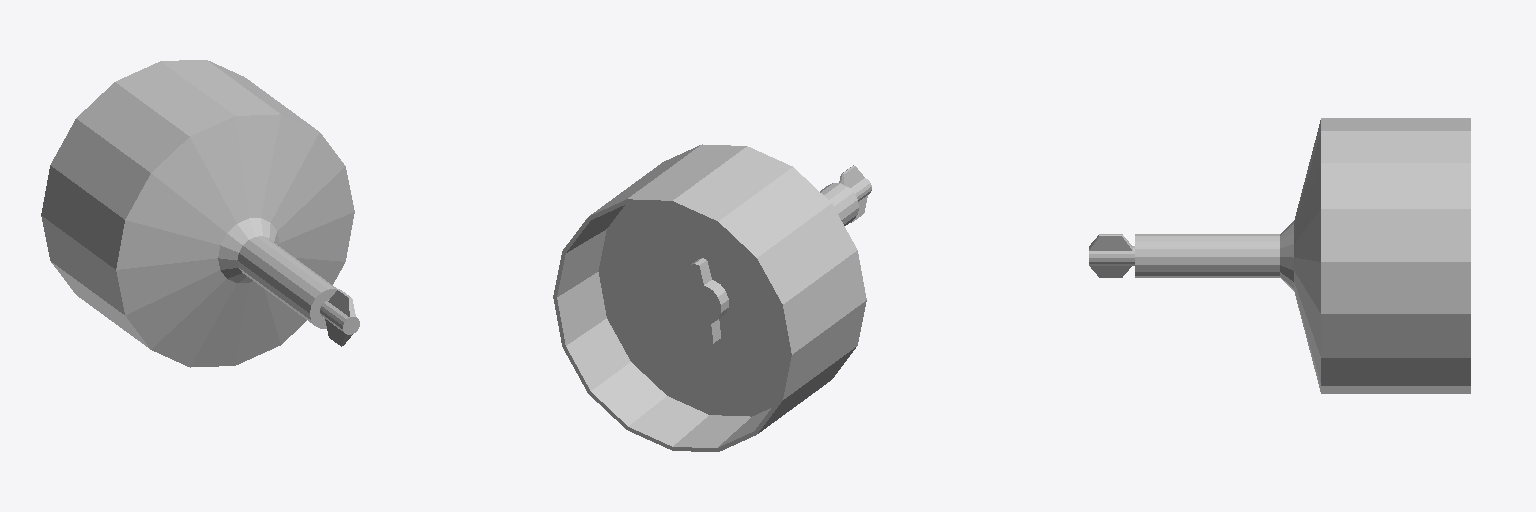
File: drill.obj
3 renders of one model, left to right at view 1: azimuth 30°, elevation 25°; view 2: azimuth 150°, elevation 25°; view 3: azimuth 270°, elevation 25°, orthographic.
Parts seen in each view (by area): view 1: bit_01.001_Mesh.014; view 2: bit_01.001_Mesh.014; view 3: bit_01.001_Mesh.014.
Boxes of the visible parts, box(x1,y1,x2,y2) form: bit_01.001_Mesh.014: box(41, 60, 359, 367); bit_01.001_Mesh.014: box(553, 144, 871, 451); bit_01.001_Mesh.014: box(1089, 118, 1470, 393).
Bounding box in the file's own units: 0.092 × 0.092 × 0.1274.